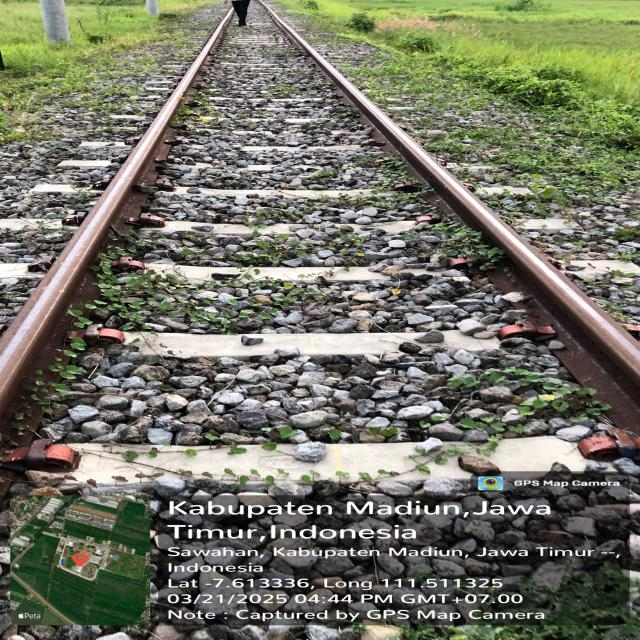rail-detection: (260, 2, 640, 423), (0, 10, 233, 412)
